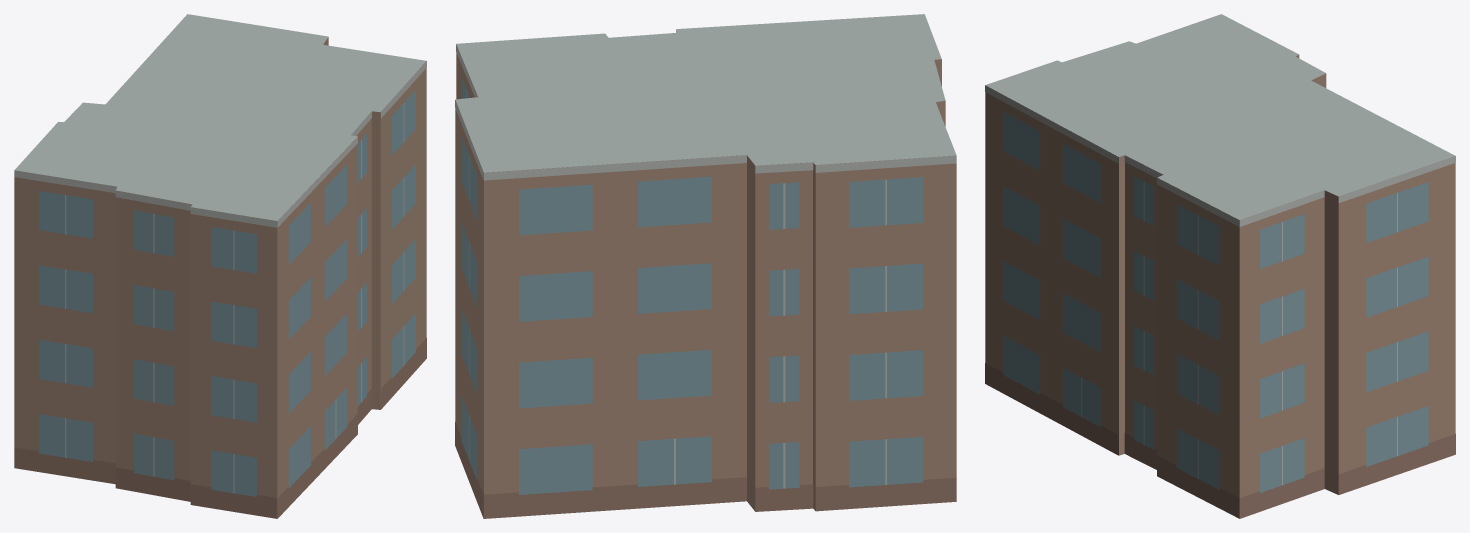
The model's file is survey-upis-32900547.glb.
The picture shows the model from 3 angles, left to right: view 1: azimuth 30°, elevation 25°; view 2: azimuth 150°, elevation 25°; view 3: azimuth 270°, elevation 25°; orthographic projection. The views are drawn at different scales.
Parts seen in each view (by area): view 1: survey-upis-32900547.tmp; view 2: survey-upis-32900547.tmp; view 3: survey-upis-32900547.tmp.
Part boxes in pixels (bbox=[...]): survey-upis-32900547.tmp: bbox=[14, 14, 426, 518]; survey-upis-32900547.tmp: bbox=[455, 14, 956, 518]; survey-upis-32900547.tmp: bbox=[985, 14, 1455, 518].
Bounding box in the file's own units: 15.86 × 10.7 × 15.29.
